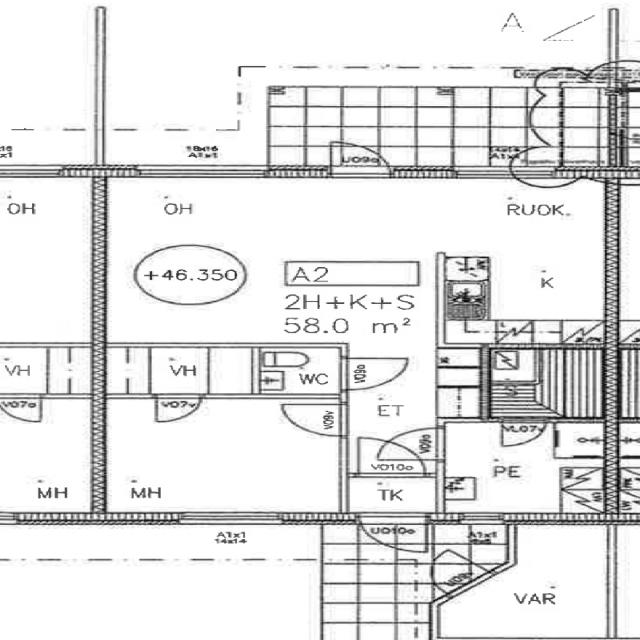door: (403, 547, 495, 597), (358, 513, 425, 560), (358, 436, 424, 477), (329, 133, 388, 176), (280, 404, 348, 436), (340, 358, 408, 390), (377, 428, 444, 459), (154, 393, 201, 422), (502, 417, 546, 445)
